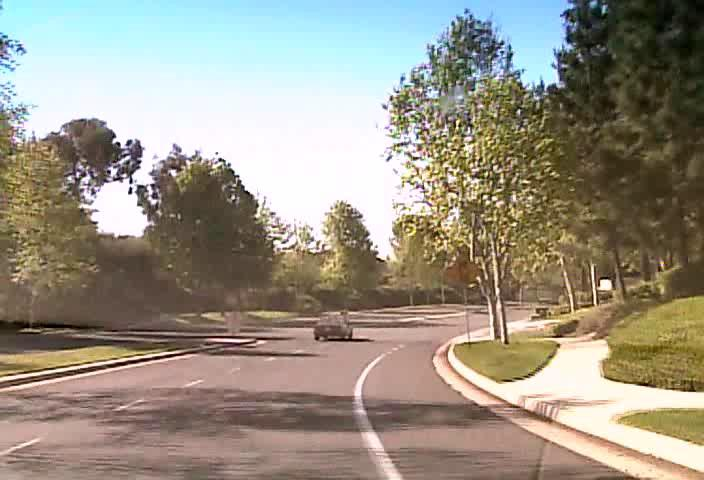signalAhead: (442, 252, 481, 290)
